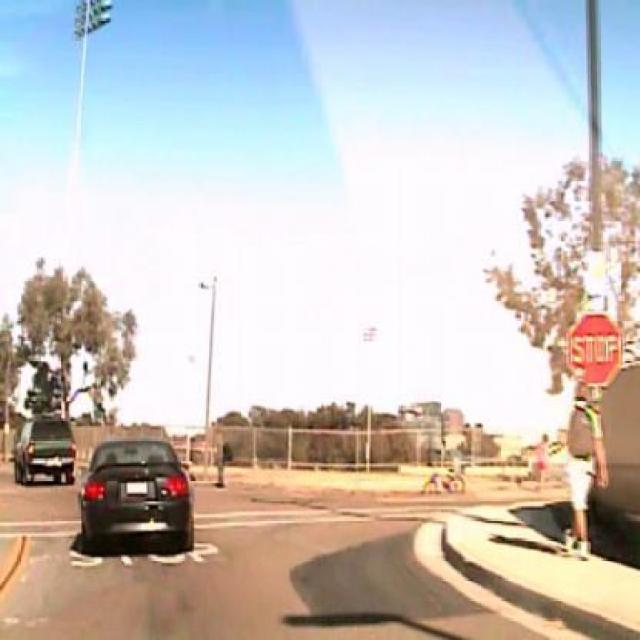Stop: (566, 312, 626, 390)
